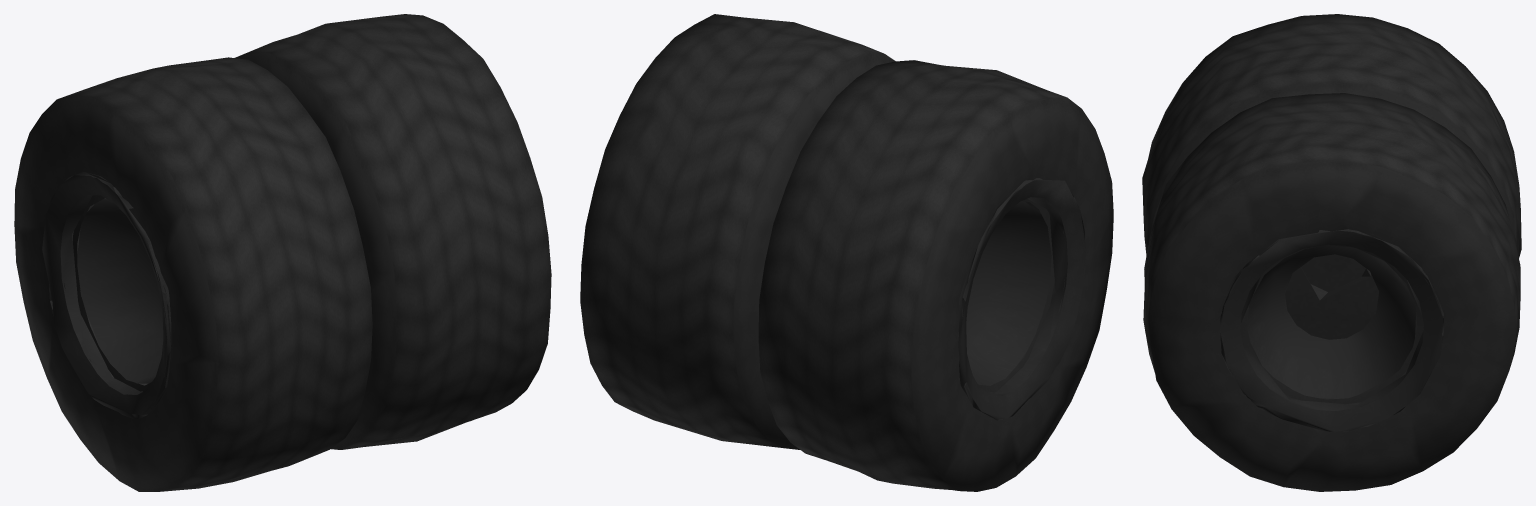
File: TW_wheel_rear_d2.obj
The picture shows the model from 3 angles, left to right: view 1: azimuth 30°, elevation 25°; view 2: azimuth 150°, elevation 25°; view 3: azimuth 270°, elevation 25°; orthographic projection. The views are drawn at different scales.
Parts seen in each view (by area): view 1: TW_wheel_rear; view 2: TW_wheel_rear; view 3: TW_wheel_rear.
Part boxes in pixels (bbox=[...]): TW_wheel_rear: bbox=[14, 14, 551, 491]; TW_wheel_rear: bbox=[580, 14, 1113, 491]; TW_wheel_rear: bbox=[1142, 14, 1521, 491].
Size of the model in its own units: 1.07 by 1.09 by 1.09.
Materials: 1 (1 with a texture image).
